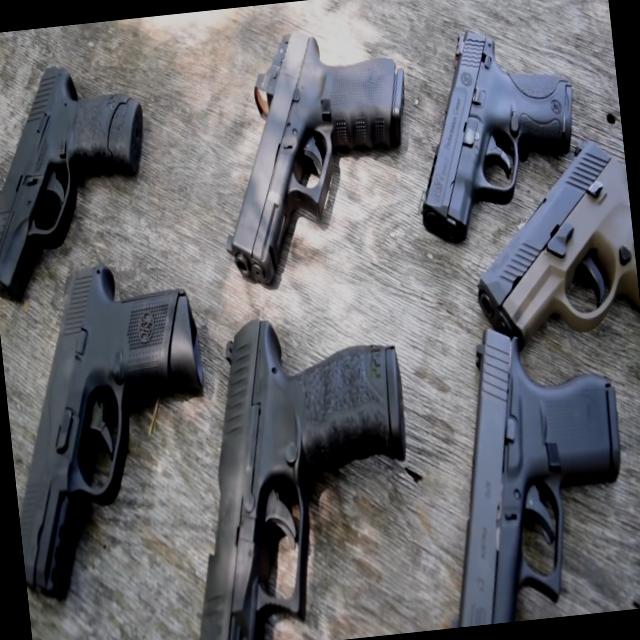handgun: (120, 290, 445, 639), (163, 0, 456, 321), (0, 241, 238, 586), (422, 295, 639, 628), (397, 1, 598, 242), (0, 37, 176, 301), (462, 132, 639, 354)
